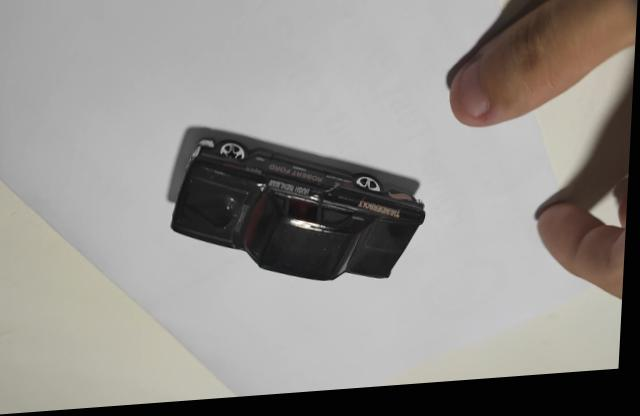01_FORD: (168, 128, 430, 285)
